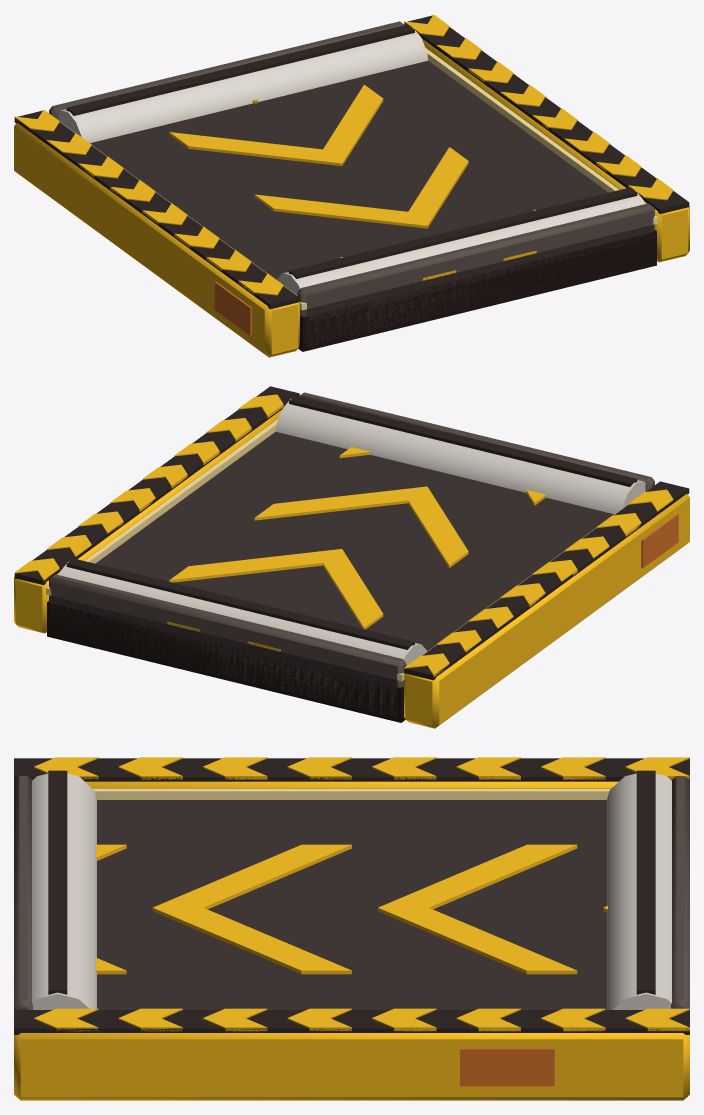
File: trap_conveyor__upper.glb
The picture shows the model from 3 angles, top to bottom: view 1: azimuth 30°, elevation 25°; view 2: azimuth 150°, elevation 25°; view 3: azimuth 270°, elevation 25°; orthographic projection. The views are drawn at different scales.
Visible parts, largest first — view 1: Belt, Frame, Roller_Back, Roller_Front, End_Front, Arrows, End_Back; view 2: Belt, Frame, Roller_Front, End_Back, Arrows, Roller_Back, End_Front; view 3: Belt, Frame, Arrows, Roller_Back, Roller_Front, End_Front, End_Back.
Boxes of the visible parts, x1=… form: Belt: x1=90, y1=60, x2=653, y2=323; Frame: x1=14, y1=14, x2=689, y2=357; Roller_Back: x1=58, y1=24, x2=428, y2=142; Roller_Front: x1=276, y1=187, x2=650, y2=321; End_Front: x1=297, y1=203, x2=654, y2=345; Arrows: x1=169, y1=84, x2=536, y2=280; End_Back: x1=49, y1=21, x2=404, y2=119; Belt: x1=50, y1=431, x2=613, y2=694; Frame: x1=14, y1=386, x2=689, y2=728; Roller_Front: x1=275, y1=395, x2=645, y2=514; End_Back: x1=49, y1=574, x2=406, y2=717; Arrows: x1=167, y1=447, x2=546, y2=651; Roller_Back: x1=55, y1=558, x2=427, y2=692; End_Front: x1=299, y1=392, x2=654, y2=491; Belt: x1=97, y1=800, x2=606, y2=1009; Frame: x1=14, y1=757, x2=689, y2=1100; Arrows: x1=96, y1=844, x2=607, y2=974; Roller_Back: x1=607, y1=770, x2=671, y2=1009; Roller_Front: x1=32, y1=770, x2=96, y2=1009; End_Front: x1=14, y1=776, x2=32, y2=1009; End_Back: x1=671, y1=776, x2=689, y2=1008.
Bounding box in the file's own units: 0.967 × 0.14 × 1.
